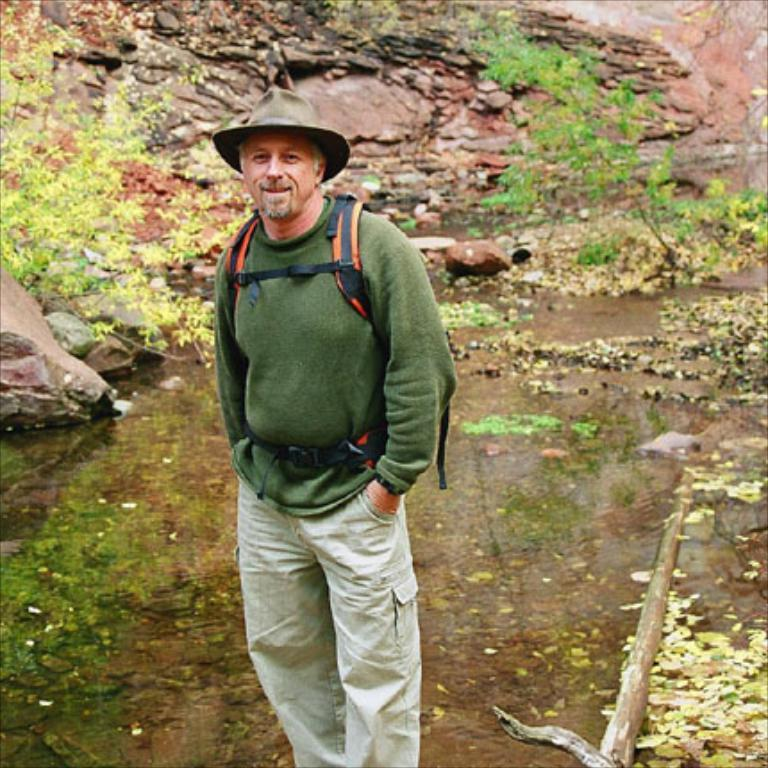Hat: (212, 84, 350, 184)
